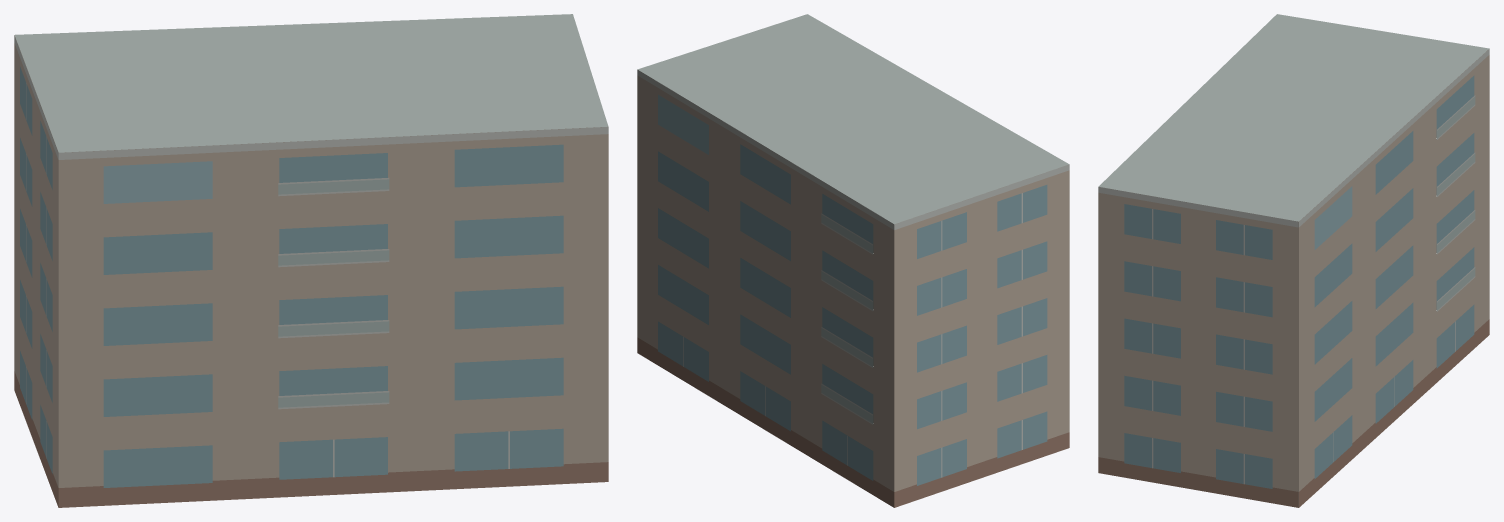
The model's file is survey-upis-32980902.glb.
3 renders of one model, left to right at view 1: azimuth 30°, elevation 25°; view 2: azimuth 150°, elevation 25°; view 3: azimuth 270°, elevation 25°, orthographic. The views are drawn at different scales.
Visible parts, largest first — view 1: survey-upis-32980902.tmp; view 2: survey-upis-32980902.tmp; view 3: survey-upis-32980902.tmp.
Part boxes in pixels (box(x1,y1,x2,y2)): survey-upis-32980902.tmp: box(14, 14, 608, 507); survey-upis-32980902.tmp: box(637, 14, 1069, 507); survey-upis-32980902.tmp: box(1098, 14, 1489, 507).
Bounding box in the file's own units: 18.28 × 11.75 × 14.57.
